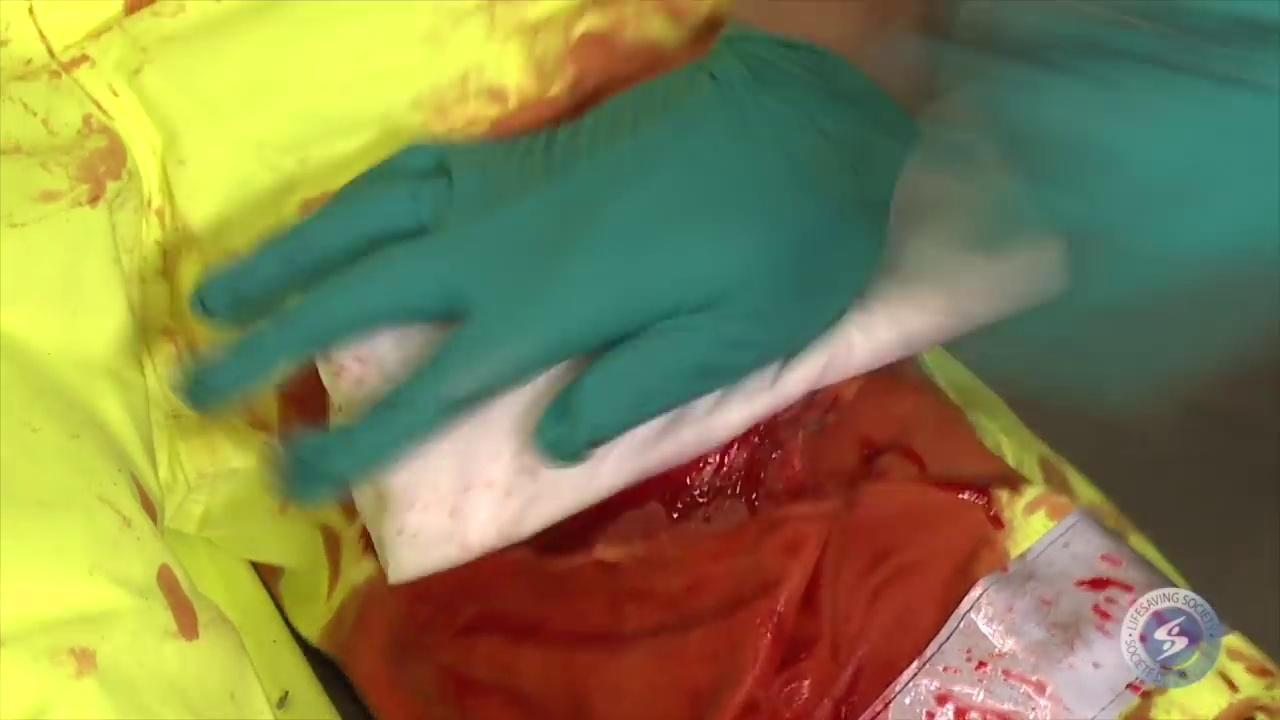Fire: (329, 361, 1030, 719), (481, 19, 730, 137), (285, 374, 333, 428), (1084, 573, 1130, 604)
